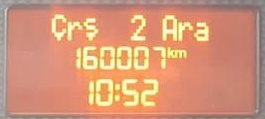0: (94, 77, 112, 106), (115, 44, 131, 70), (98, 45, 115, 69), (133, 45, 149, 69)
1: (87, 77, 94, 105), (75, 45, 81, 69)
2: (141, 77, 159, 107), (129, 12, 146, 41)
5: (121, 77, 138, 105)
6: (82, 45, 97, 70)
7: (151, 45, 166, 69)
X: (161, 12, 177, 41), (50, 12, 65, 41), (82, 16, 99, 40), (193, 20, 210, 41), (177, 19, 192, 41), (67, 20, 81, 40), (113, 81, 120, 102), (174, 48, 186, 58), (166, 45, 174, 58)
